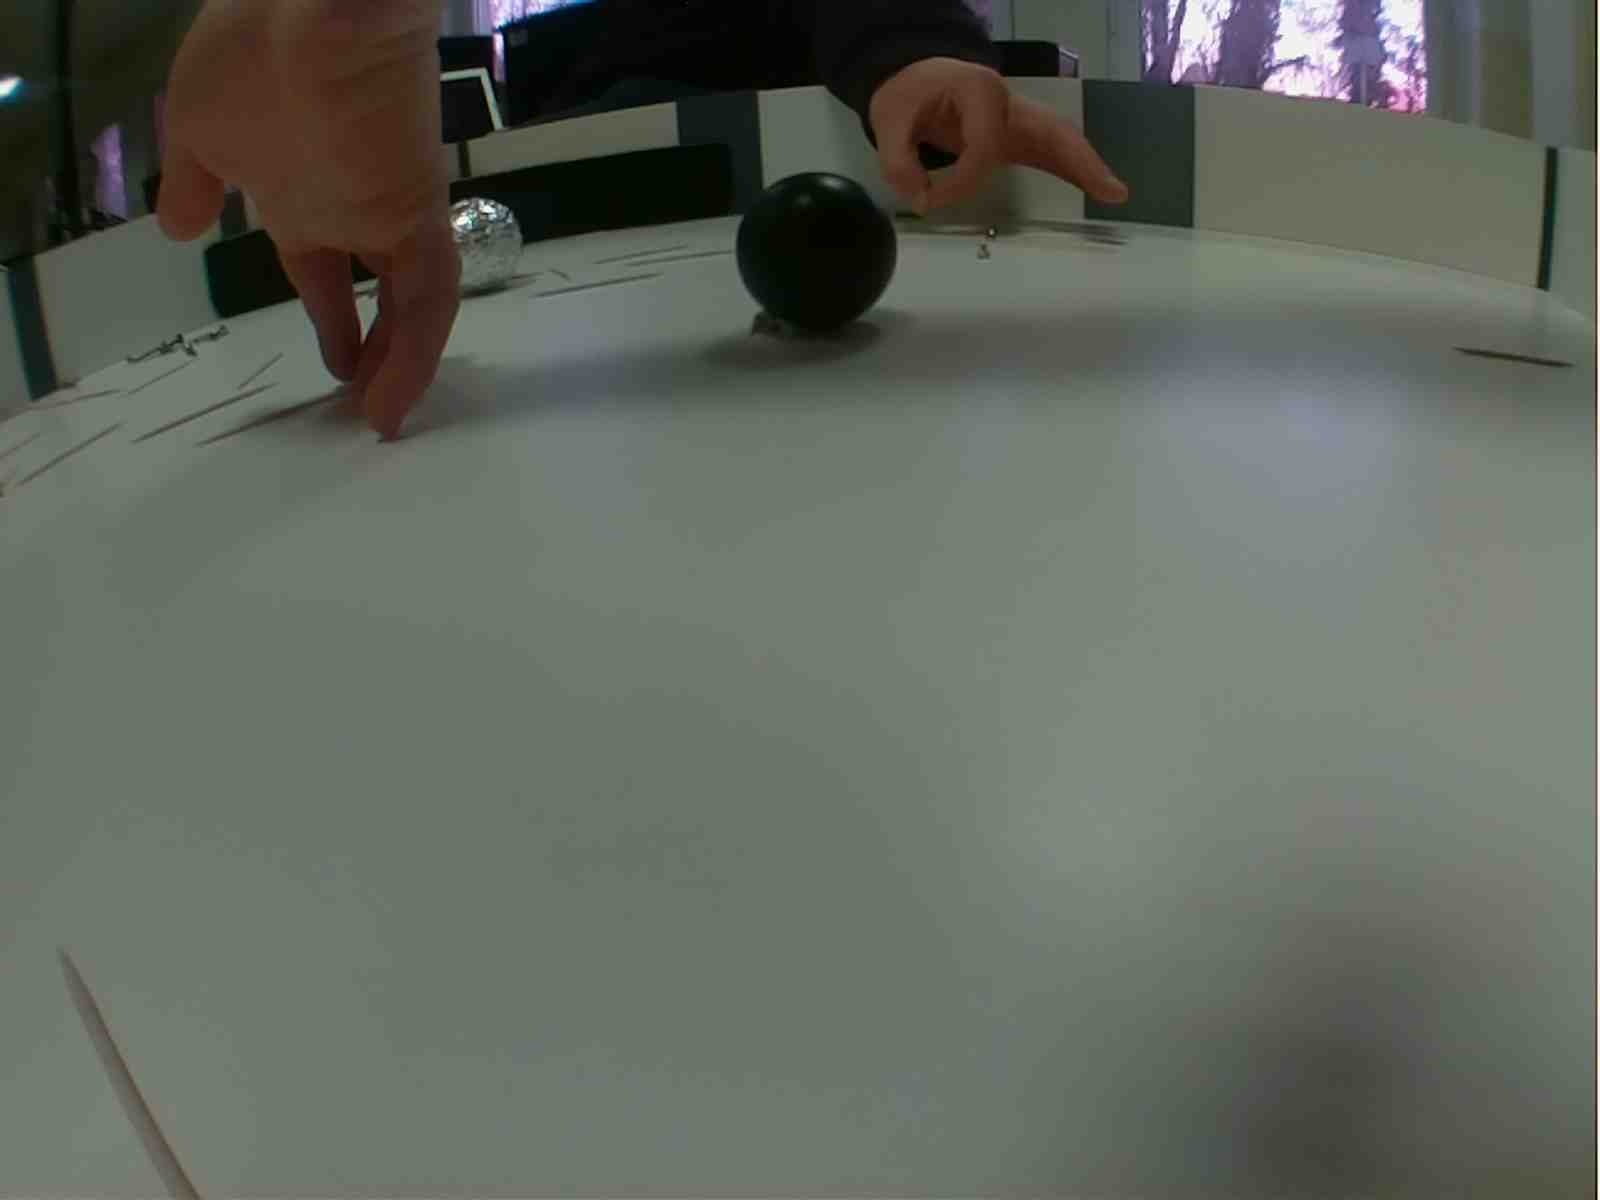bianca: (445, 195, 529, 303)
nera: (726, 166, 903, 343)
